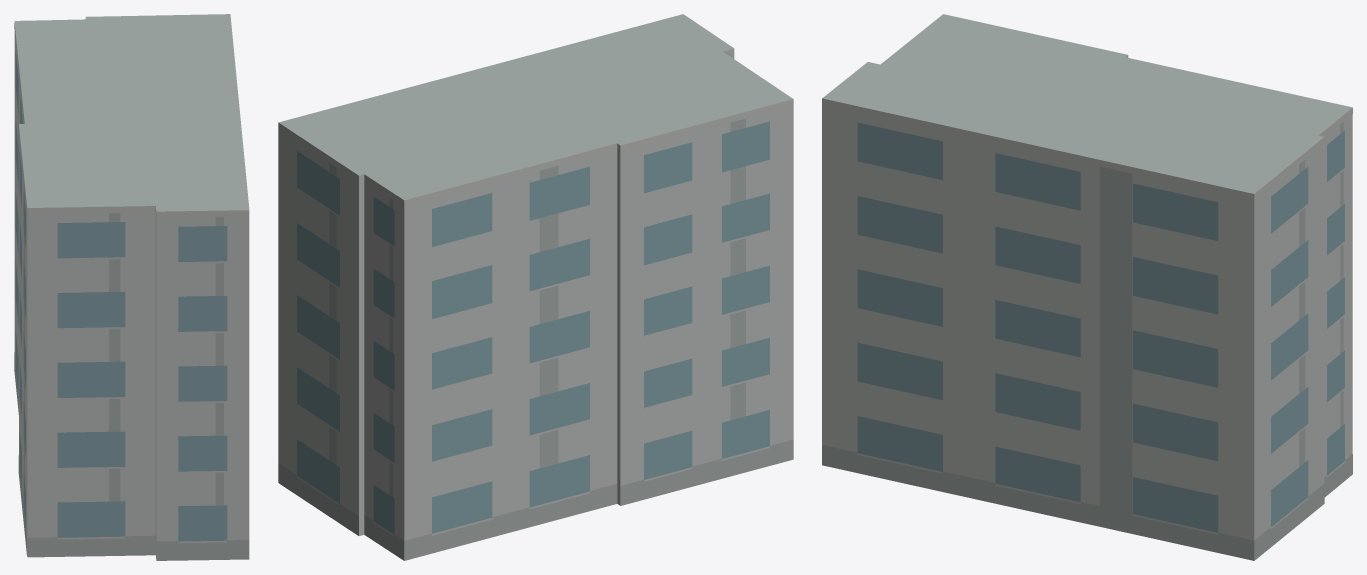
Rendered from survey-upis-32471872.glb.
The picture shows the model from 3 angles, left to right: view 1: azimuth 30°, elevation 25°; view 2: azimuth 150°, elevation 25°; view 3: azimuth 270°, elevation 25°; orthographic projection. The views are drawn at different scales.
Visible parts, largest first — view 1: survey-upis-32471872.tmp; view 2: survey-upis-32471872.tmp; view 3: survey-upis-32471872.tmp.
Boxes of the visible parts, box(x1,y1,x2,y2) form: survey-upis-32471872.tmp: box(14, 14, 249, 560); survey-upis-32471872.tmp: box(278, 14, 793, 560); survey-upis-32471872.tmp: box(822, 14, 1352, 560).
Bounding box in the file's own units: 13.91 × 13.21 × 17.33.
